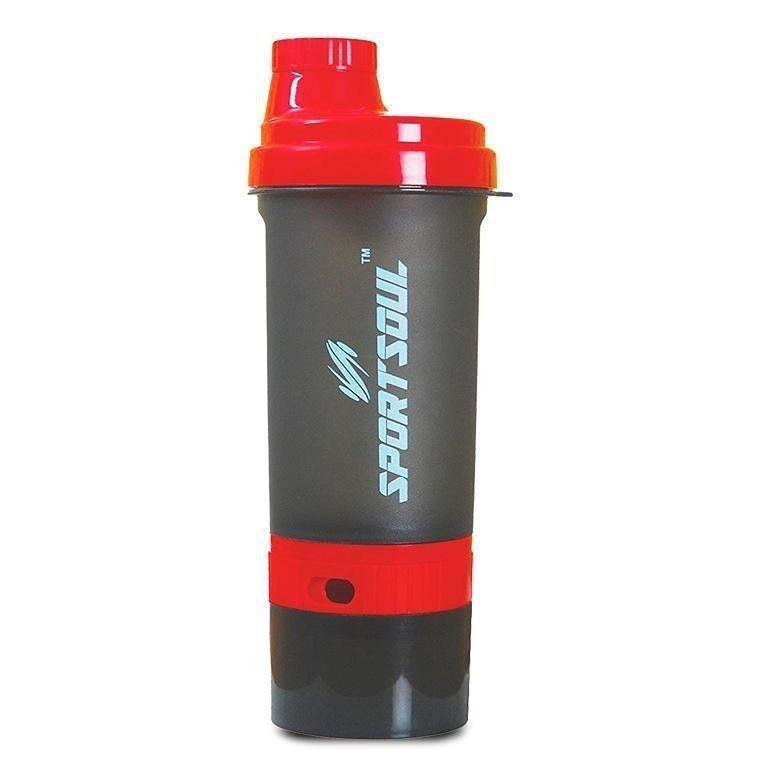gym bottle: (245, 28, 511, 747)
